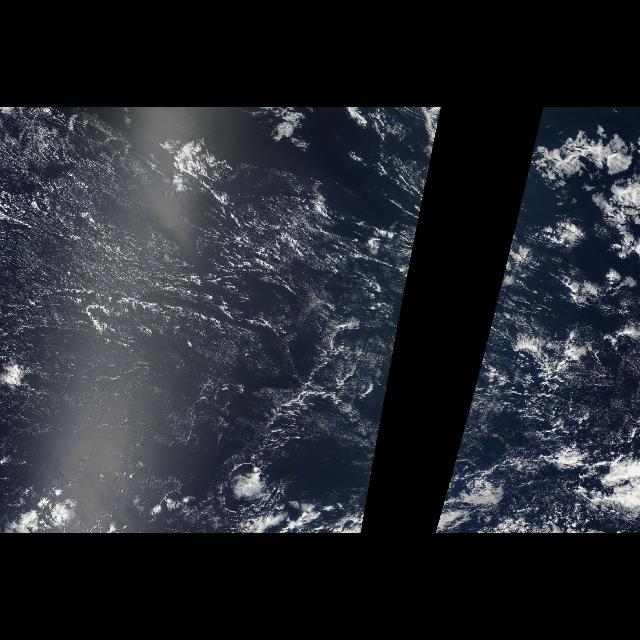Flower: (504, 121, 640, 315)
Gravel: (490, 339, 612, 523)
Sugar: (1, 116, 381, 458)
